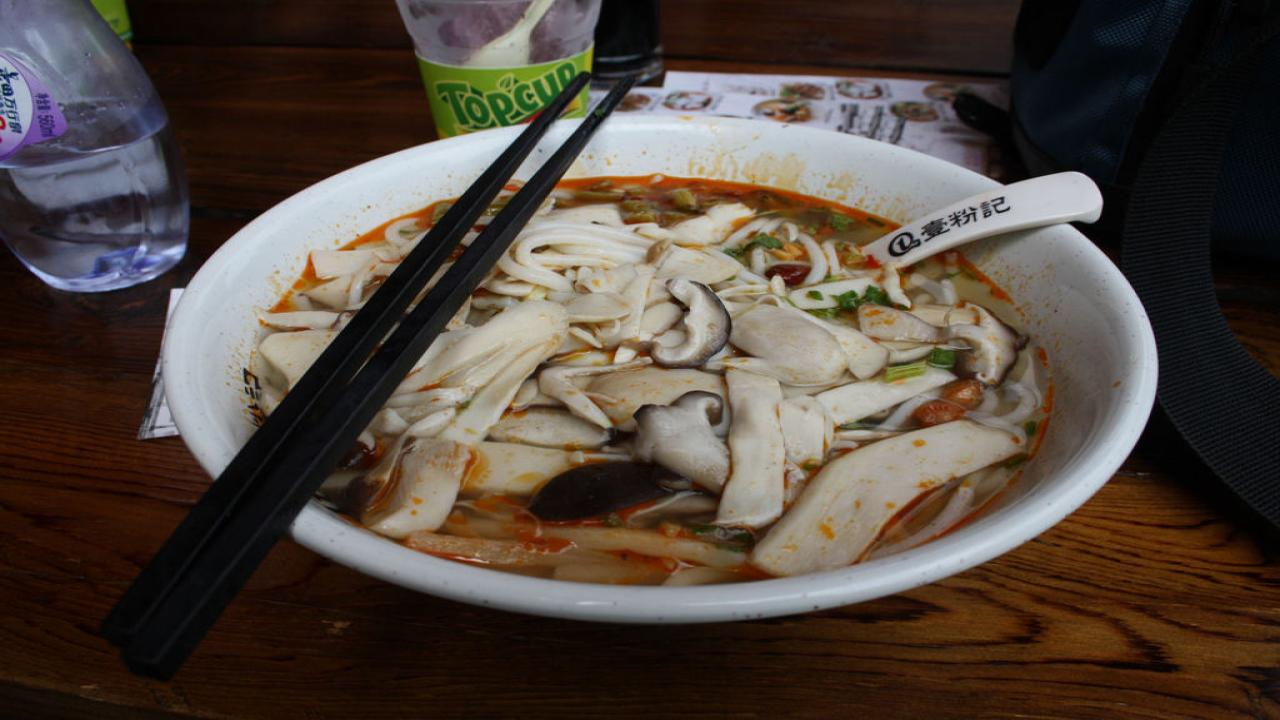chopstick: (99, 73, 638, 679)
